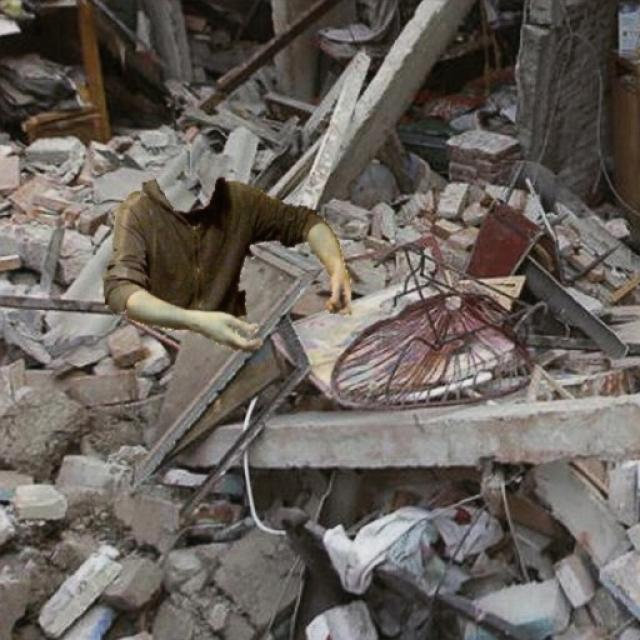Person in Rubble: (102, 178, 350, 352)
